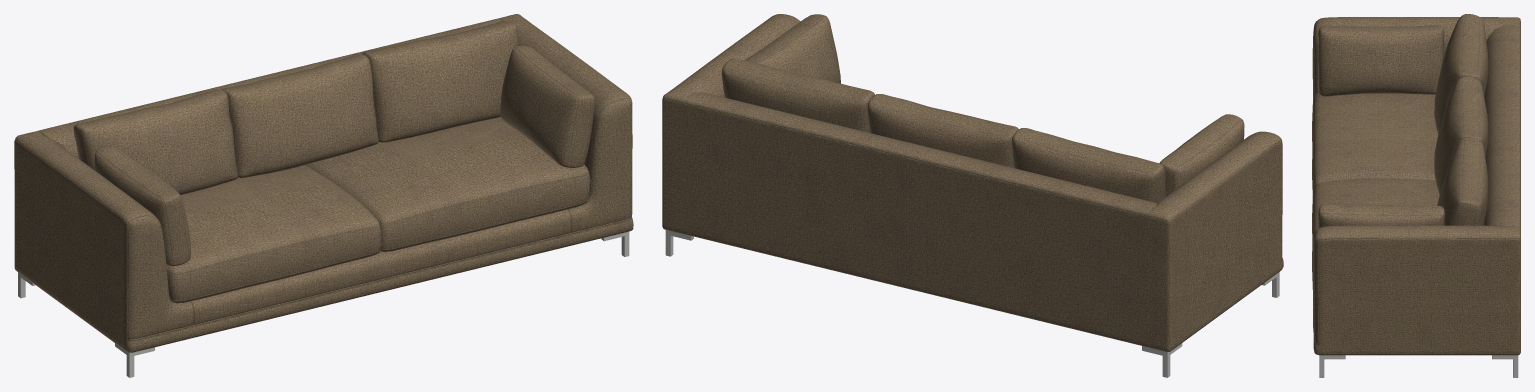
File: sofa-track-arm--flannel.glb
The picture shows the model from 3 angles, left to right: view 1: azimuth 30°, elevation 25°; view 2: azimuth 150°, elevation 25°; view 3: azimuth 270°, elevation 25°; orthographic projection. The views are drawn at different scales.
Visible parts, largest first — view 1: RootNode; view 2: RootNode; view 3: RootNode.
Boxes of the visible parts, x1,y1,x2,y2 form: RootNode: [14, 14, 633, 377]; RootNode: [662, 14, 1283, 377]; RootNode: [1312, 14, 1520, 377].
Bounding box in the file's own units: 2.41 × 0.838 × 0.965.
1 material, 1 textured.
